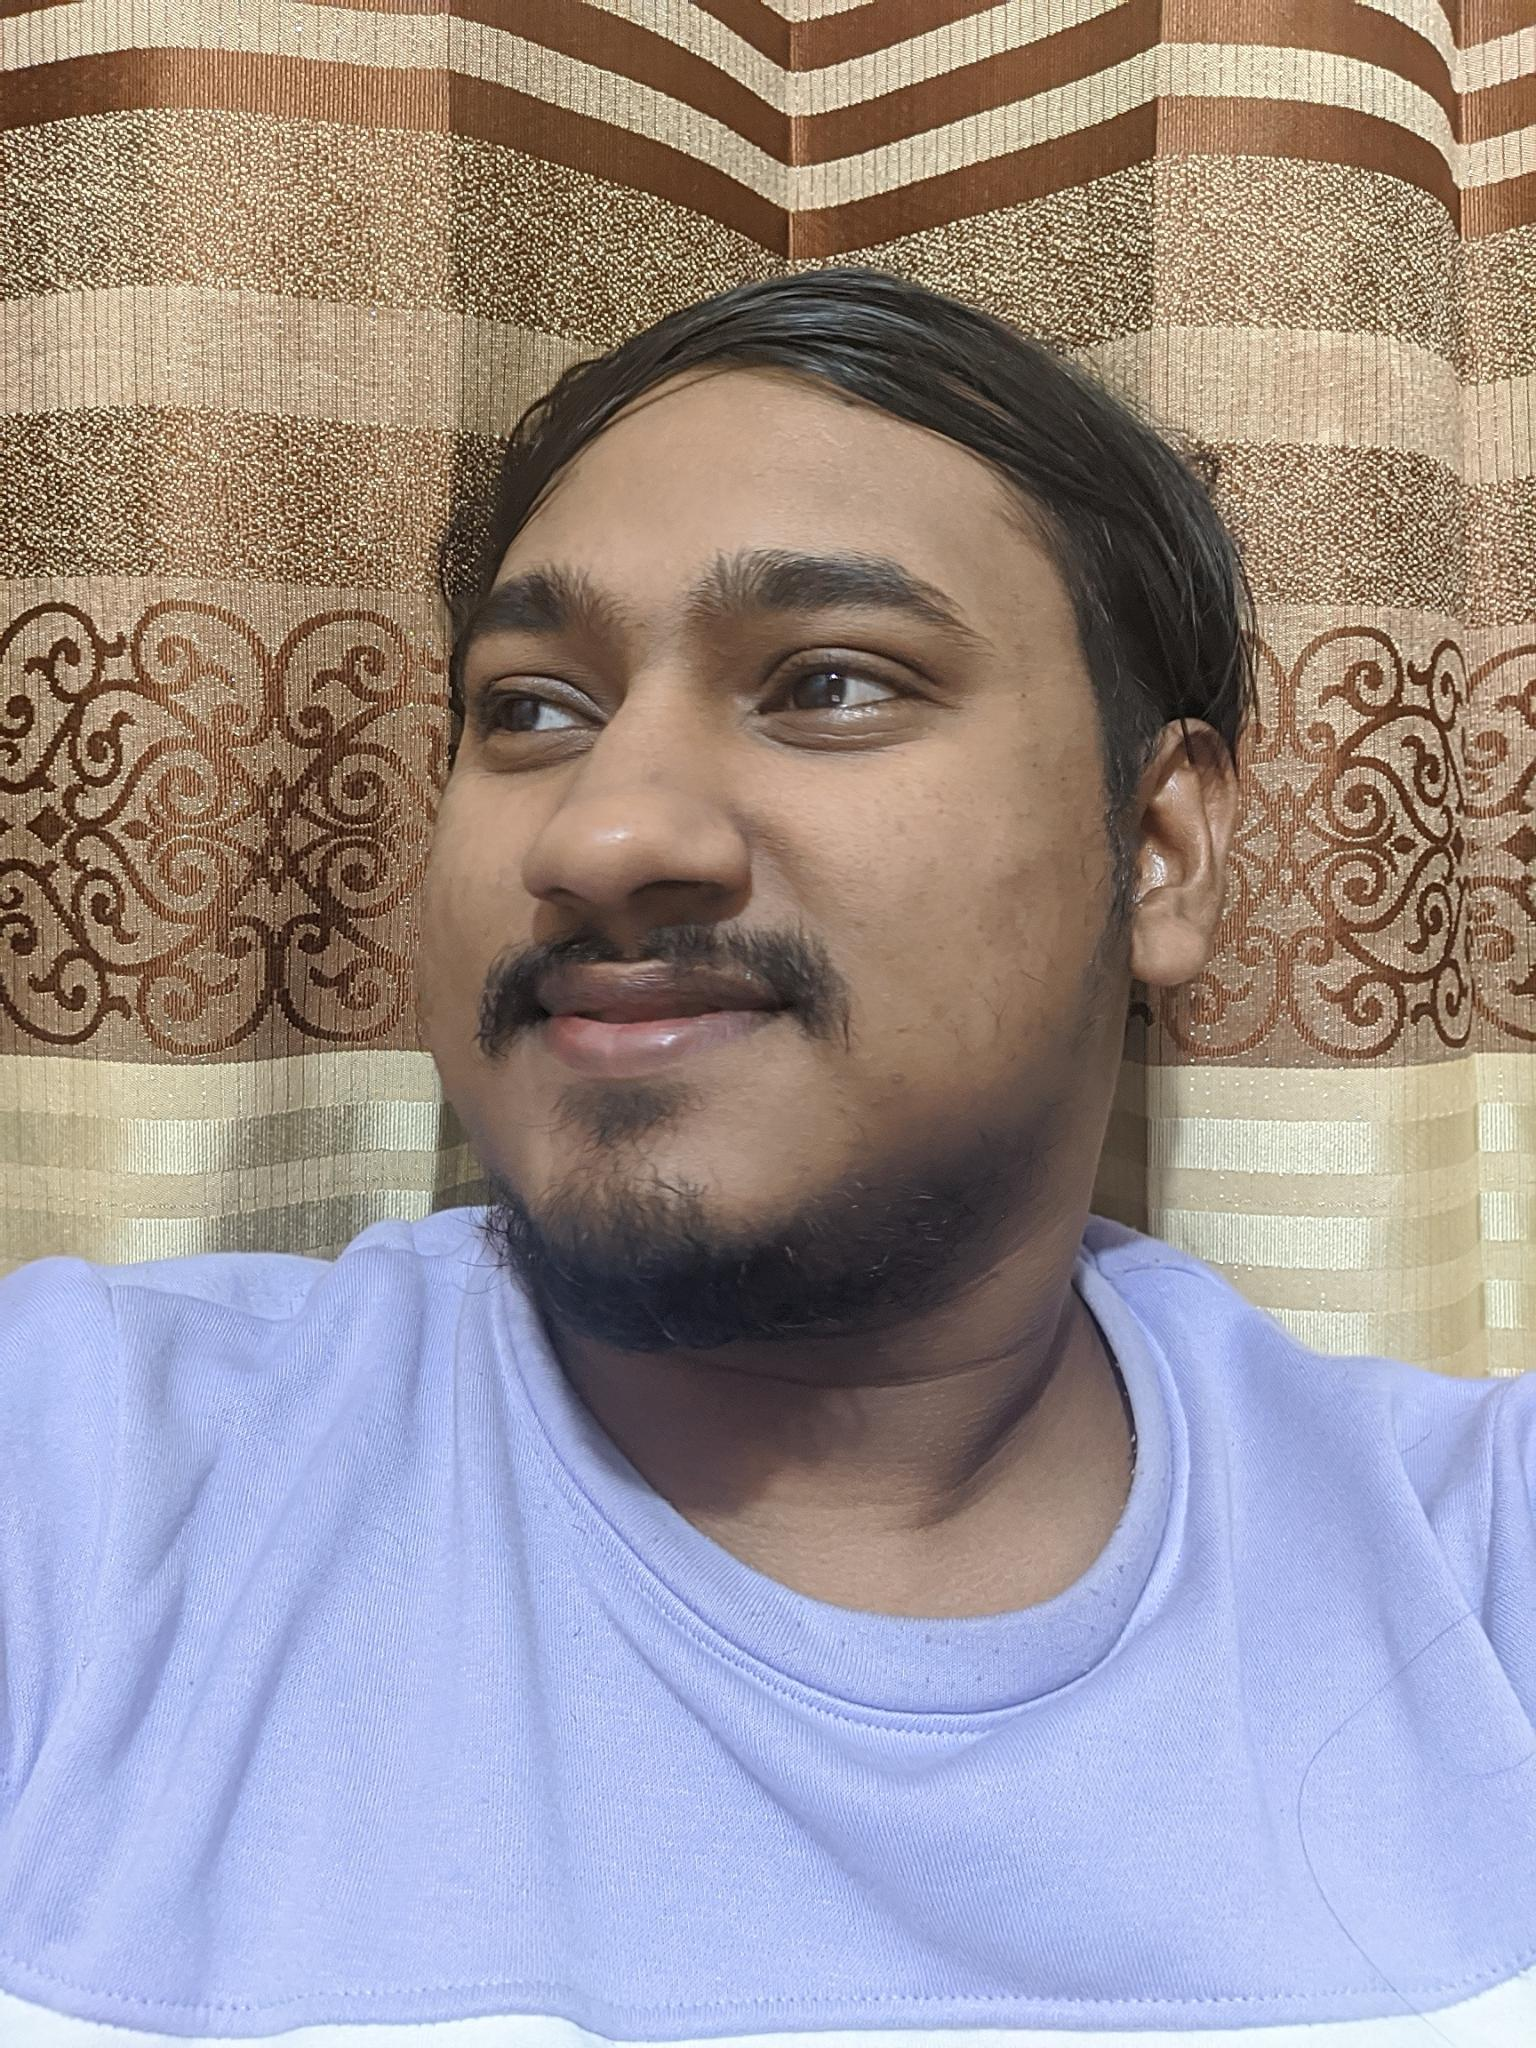Happy: (392, 510, 1060, 1269)
